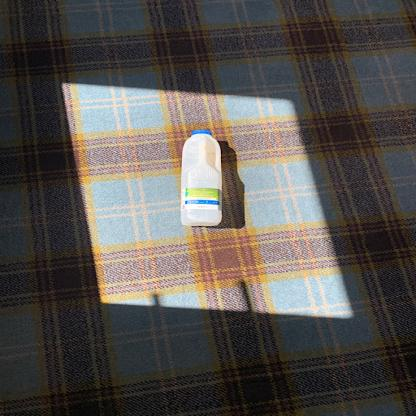trash: (180, 129, 229, 229)
